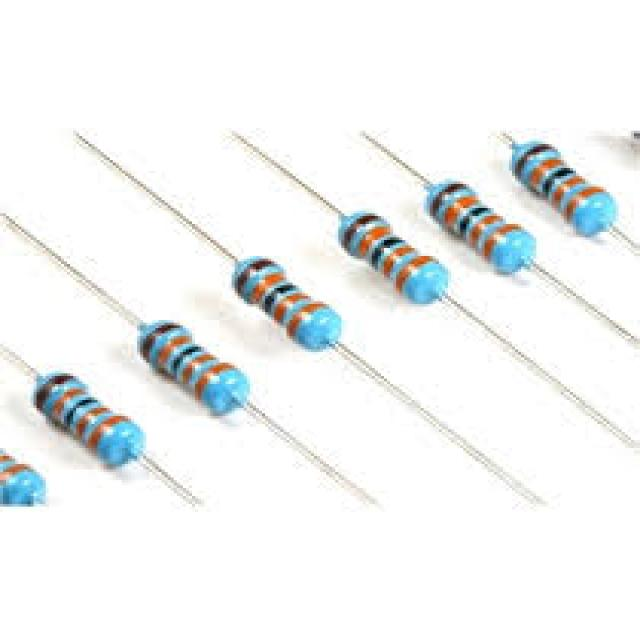Resistor: (218, 252, 339, 350), (134, 319, 254, 415), (31, 371, 147, 468), (421, 180, 538, 274), (507, 140, 619, 236), (334, 212, 452, 303), (1, 453, 46, 505)
